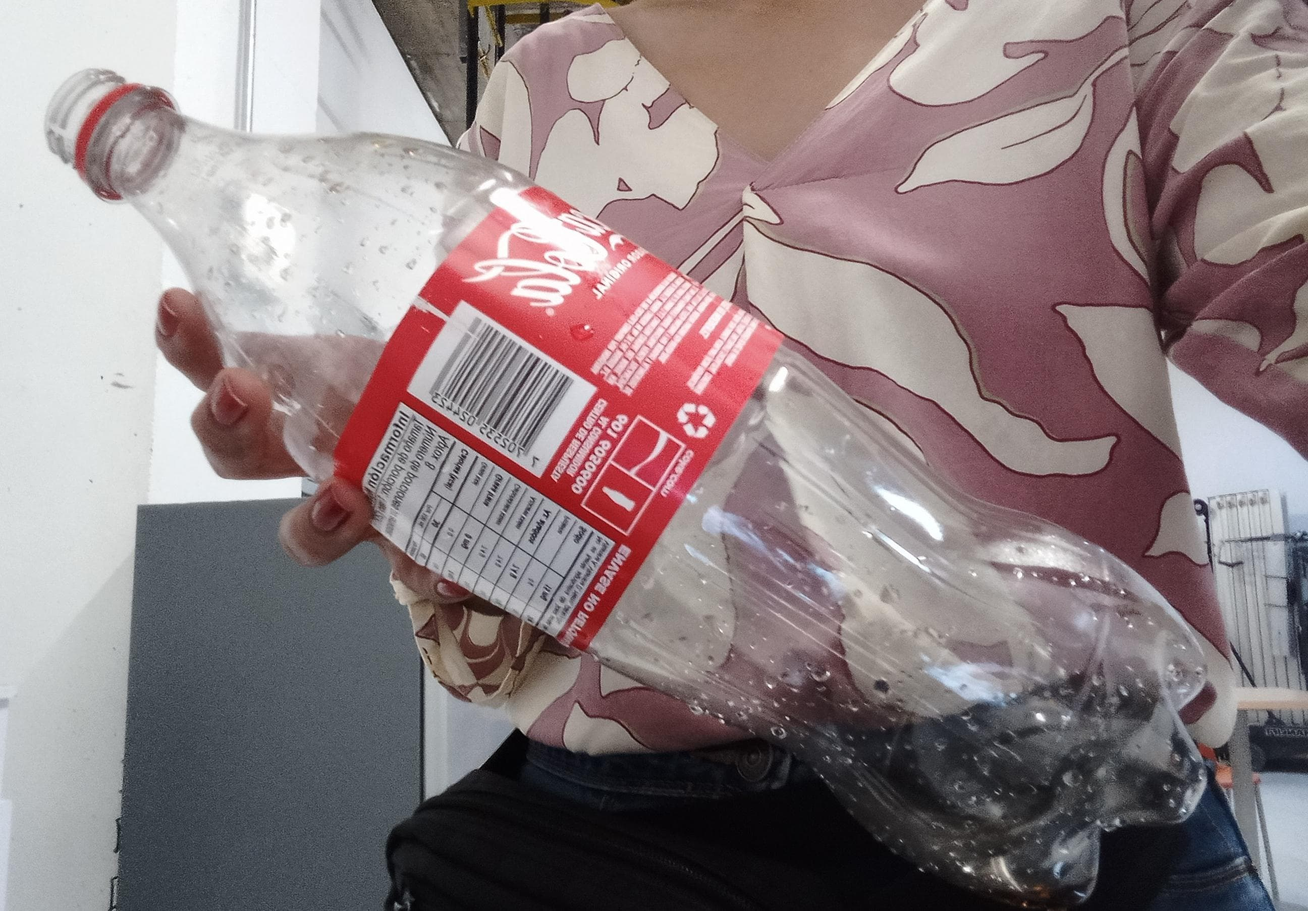Plastico: (47, 69, 1210, 910)
